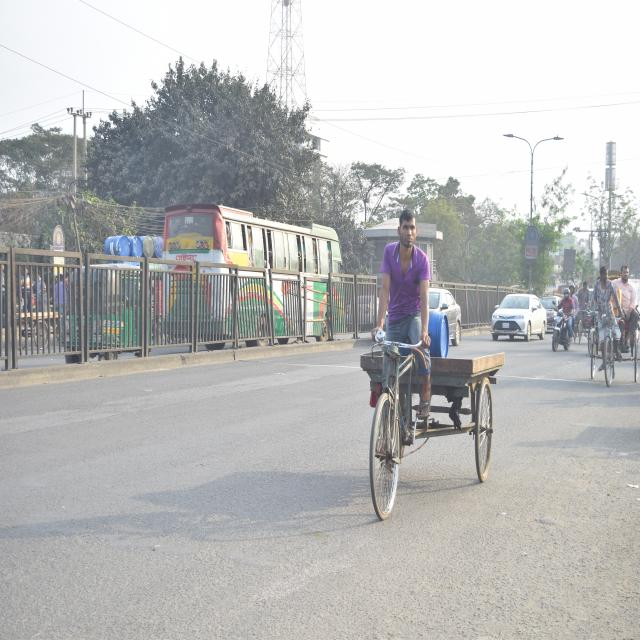bus: (161, 216, 339, 350)
car: (489, 284, 543, 350)
motorbike: (547, 306, 577, 355)
